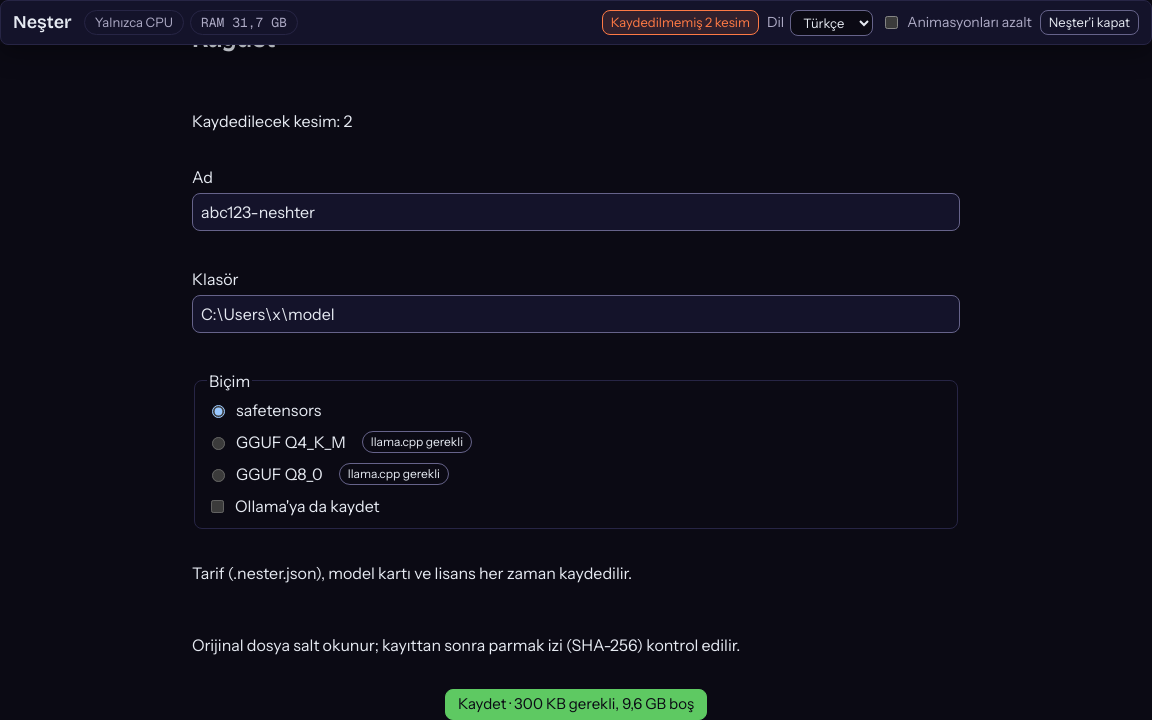
a cut added while the export runs is not marked saved
This screenshot has width=1152, height=720.
(page scrolled)
Expected: the field labelled "Ad" holds "abc123-neshter", [192,193,960,231]
Click the button "Kaydet · 300 KB gerekli, 9,6 GB boş".
click(576, 705)  # box [445,689,707,719]
(page scrolled)
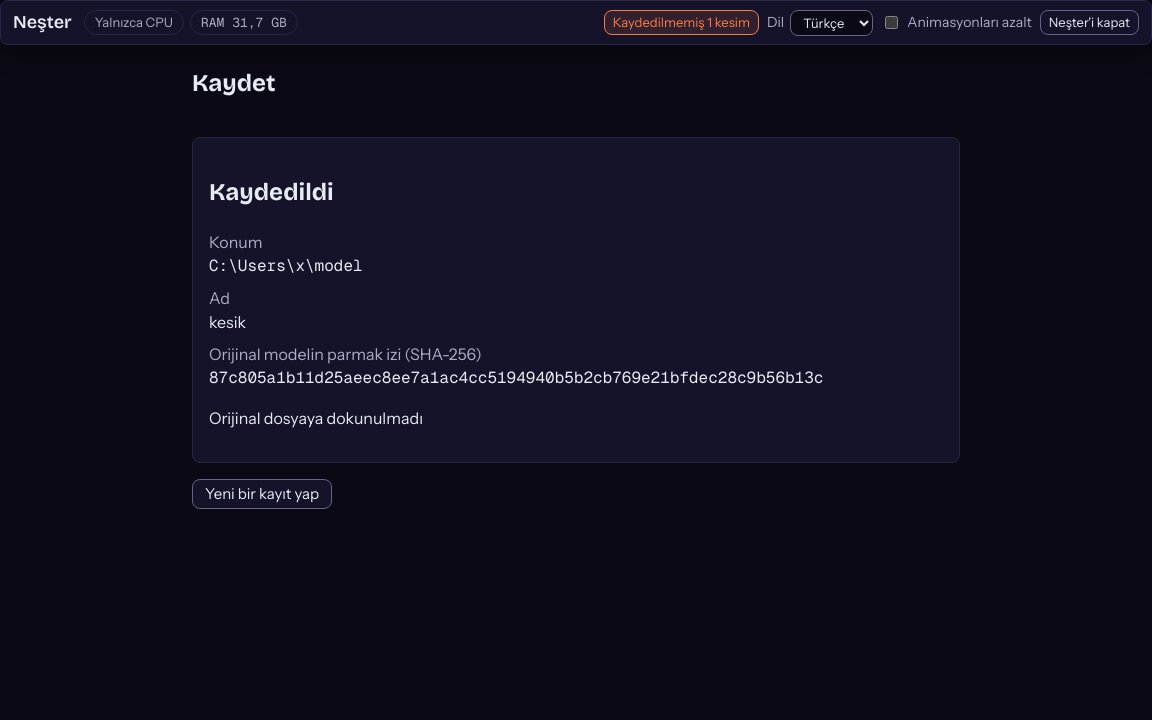
Now the heading "Kaydedildi" is shown, box [209,178,334,206]
Now the button "Kaydedilmemiş 1 kesim" is shown, box [604,10,759,35]
